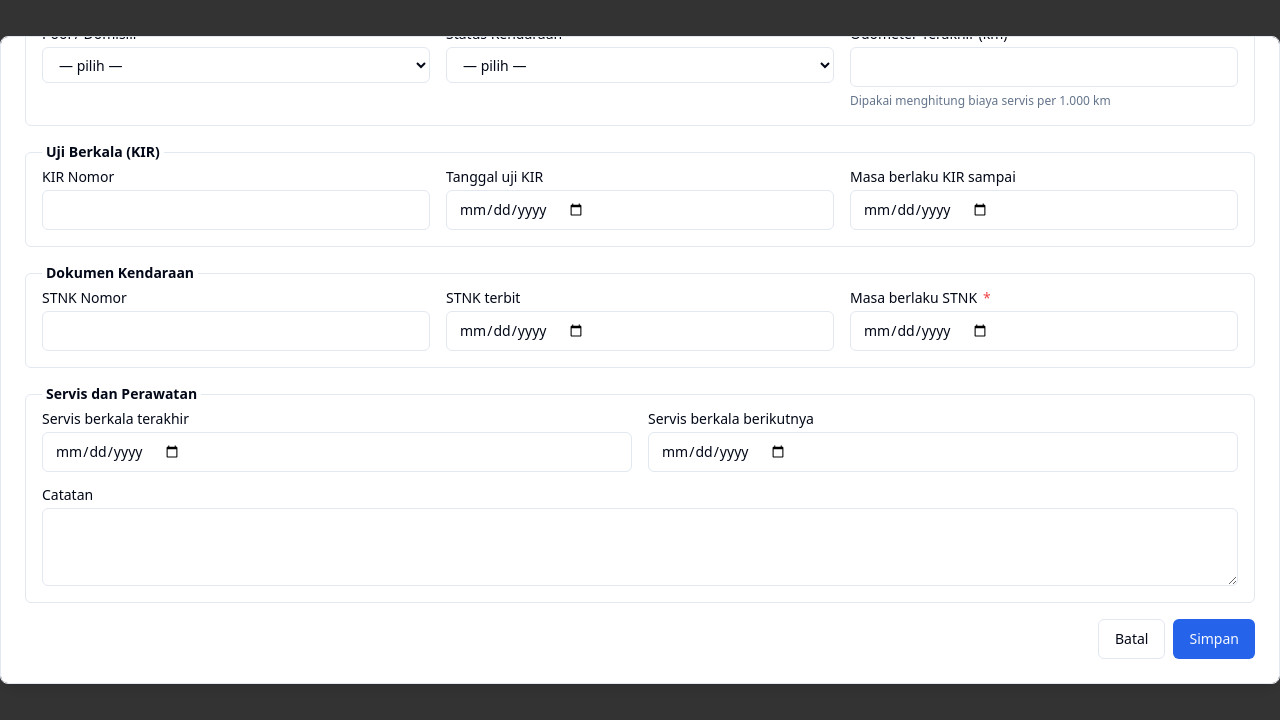
Test case: VehicleFormDialog › refuses to submit an empty form and says which field
This screenshot has width=1280, height=720.
(page scrolled)
Click the button "Simpan" at x=1214, y=639, box [1174,619,1255,659]
(page scrolled)
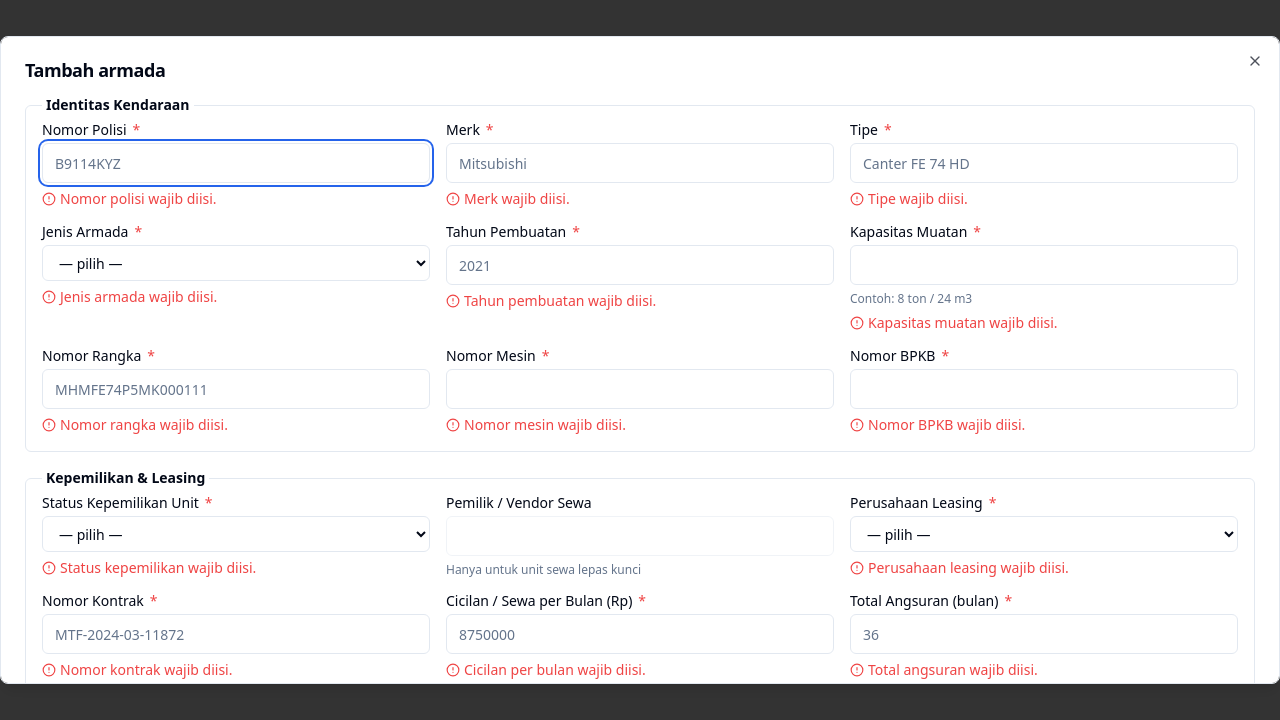
Check: the text "Nomor polisi wajib diisi." is shown, box [42,189,217,208]
